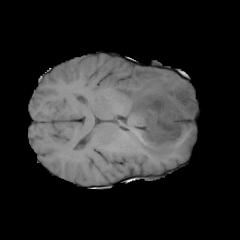glioma: (112, 67, 197, 157)
